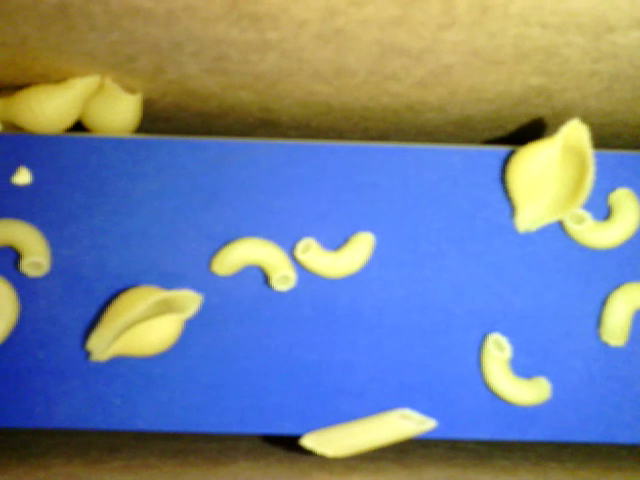elbow: (480, 330, 549, 407), (562, 183, 639, 251), (209, 237, 294, 293), (290, 228, 374, 278), (594, 280, 639, 349), (1, 220, 53, 279)
penne: (297, 408, 439, 461)
shell: (509, 117, 593, 234), (85, 286, 208, 365), (1, 66, 102, 135), (73, 75, 152, 136)
